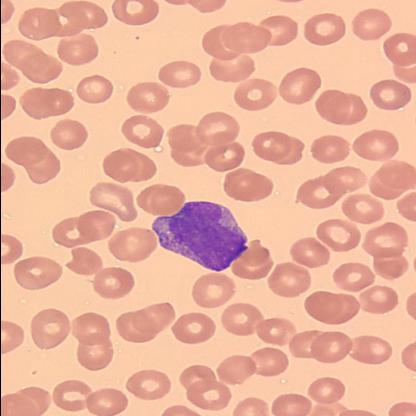Promyelocyte: (149, 200, 247, 272)
